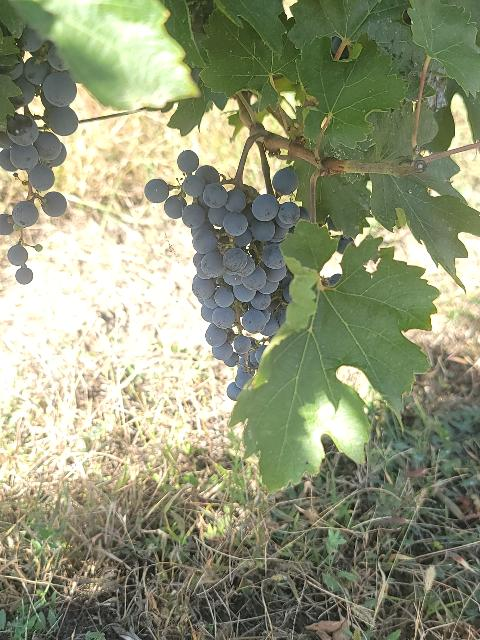grapes: (145, 150, 300, 400)
